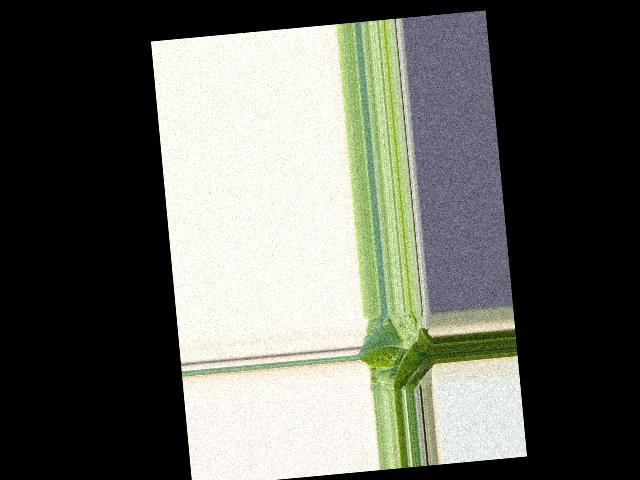lettuce: (360, 317, 437, 392)
